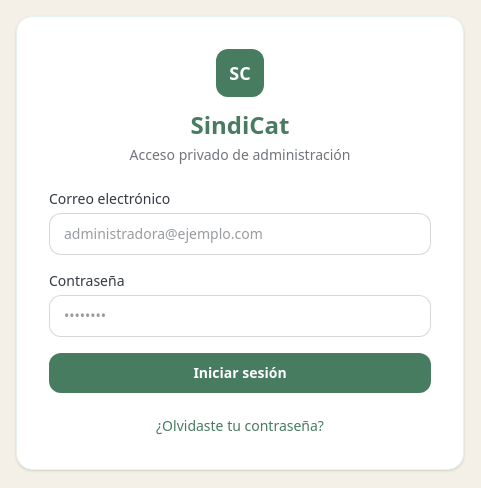
Test: LoginPage › muestra el formulario de inicio de sesión y permite cambiar a recuperación
Expected: the field labelled "Correo electrónico" is shown, [49,213,431,255]
Expected: the password field labelled "Contraseña" is shown, [49,295,431,337]
Click the button "¿Olvidaste tu contraseña?" at [240, 426], box [156,416,324,436]
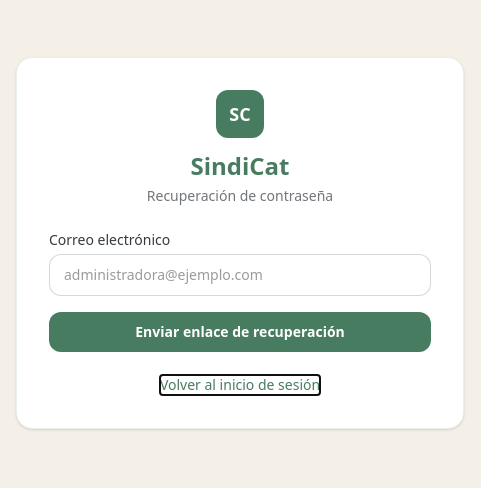
Expected: the button "Enviar enlace de recuperación" is shown, [49,312,431,352]
